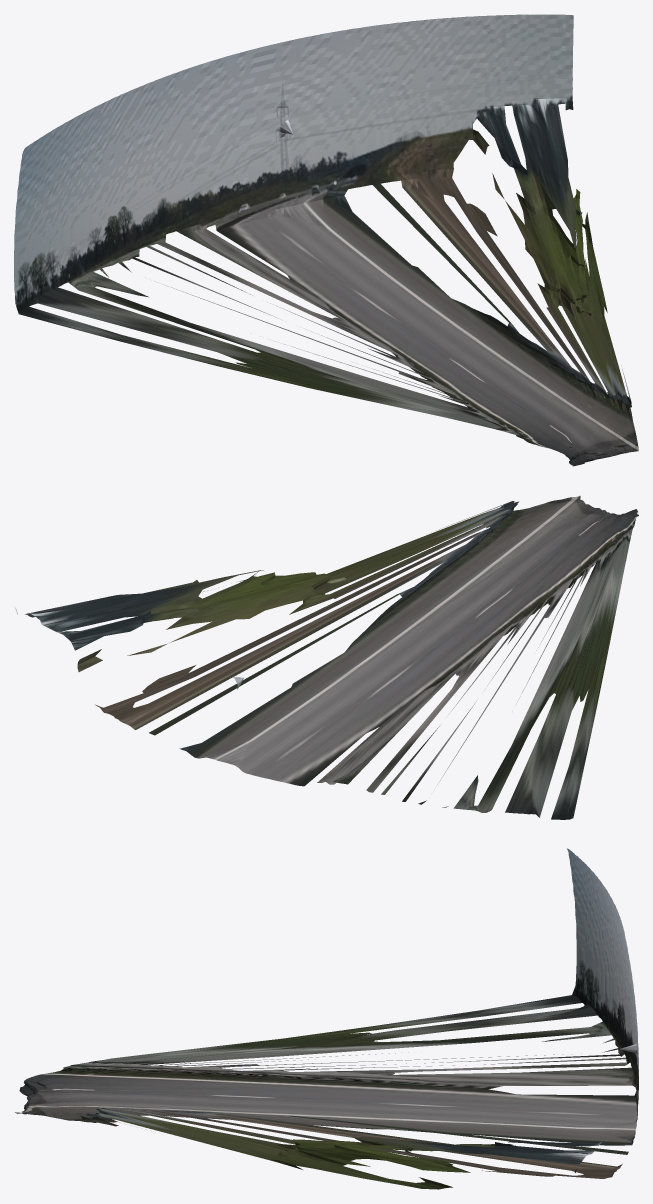
3 views of the same model, one above another, from view 1: azimuth 30°, elevation 25°; view 2: azimuth 150°, elevation 25°; view 3: azimuth 270°, elevation 25° (orthographic). The views are drawn at different scales.
Visible parts, largest first — view 1: defaultobject; view 2: defaultobject; view 3: defaultobject.
Part boxes in pixels (x1,y1,x2,y2): defaultobject: (14,14,638,466); defaultobject: (15,495,638,819); defaultobject: (15,848,638,1189).
Bounding box in the file's own units: 41.12 × 12.67 × 44.86.
Materials: 1 (1 with a texture image).
